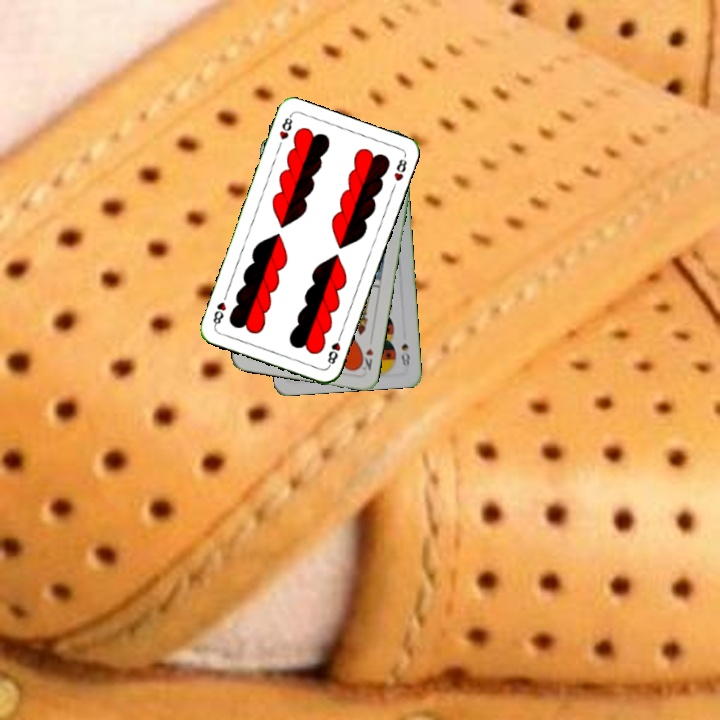H8: (324, 330, 344, 369), (275, 111, 295, 142)
HK: (355, 344, 376, 373)
S8: (397, 339, 412, 369)
